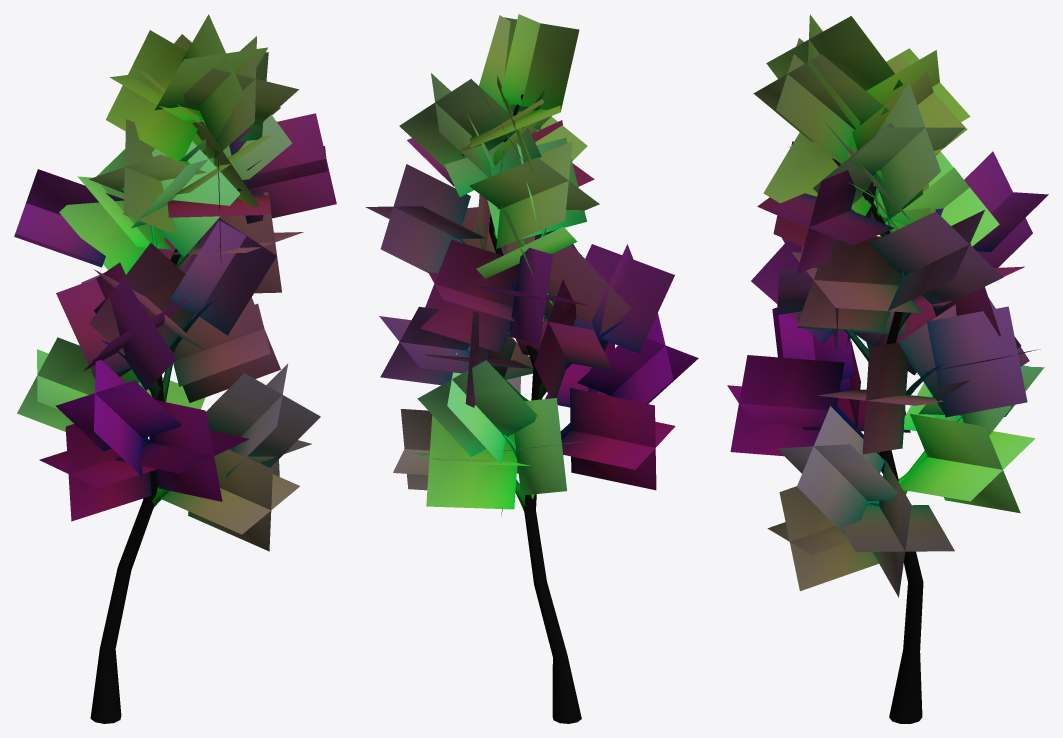
File: URP_P5_Tree_5_LOD_1.fbx
The picture shows the model from 3 angles, left to right: view 1: azimuth 30°, elevation 25°; view 2: azimuth 150°, elevation 25°; view 3: azimuth 270°, elevation 25°; orthographic projection. The views are drawn at different scales.
Parts seen in each view (by area): view 1: Tree_5_LOD_1; view 2: Tree_5_LOD_1; view 3: Tree_5_LOD_1.
Boxes of the visible parts, <box> form: Tree_5_LOD_1: <box>14,14,336,723</box>; Tree_5_LOD_1: <box>365,14,698,723</box>; Tree_5_LOD_1: <box>727,14,1048,723</box>.
Bounding box in the file's own units: 271 × 662 × 261.
